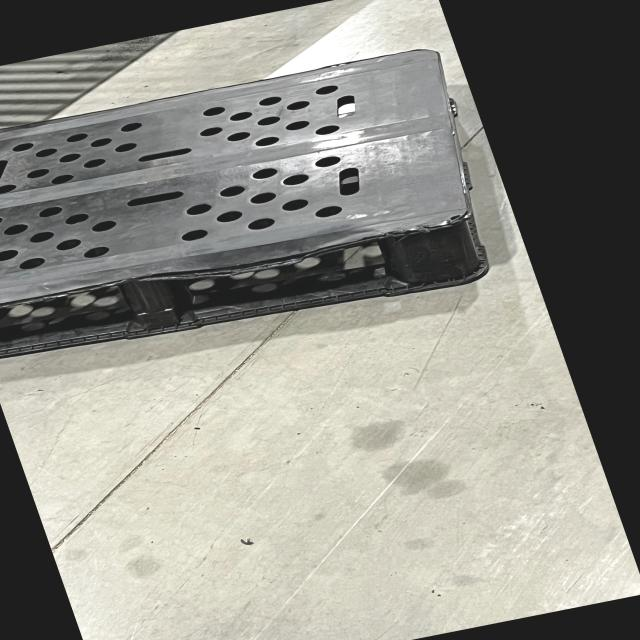igps: (0, 40, 493, 366)
